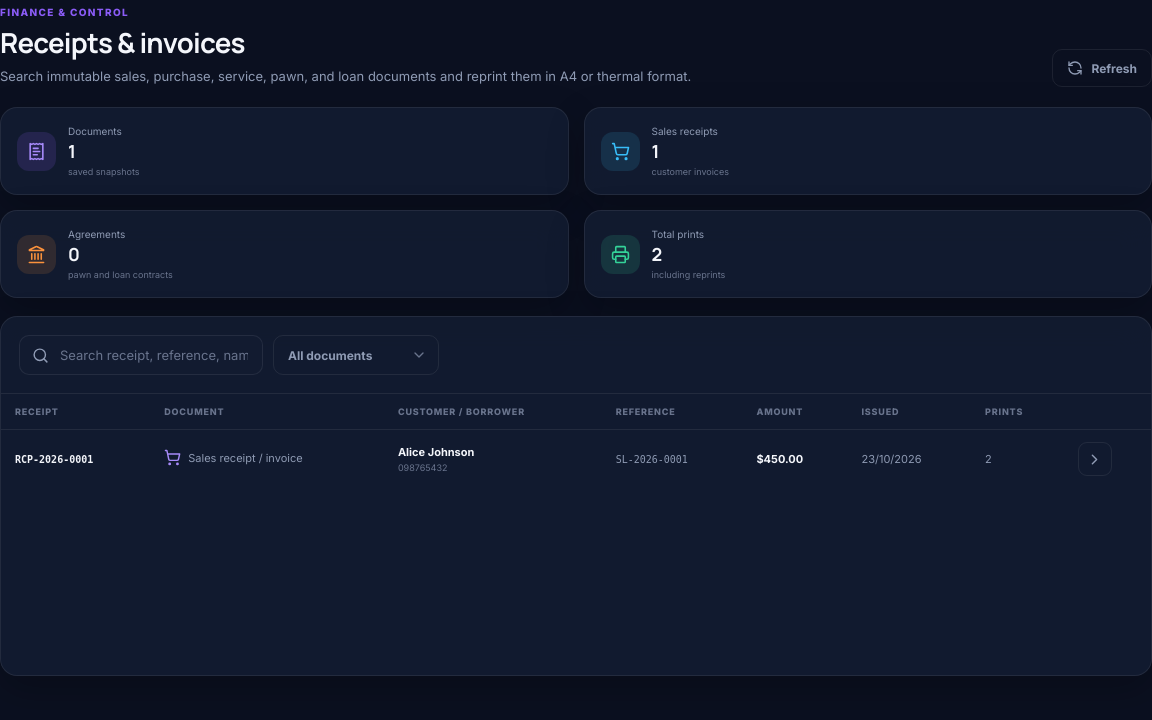
Test: ReceiptCenterPage component › displays error when opening a specific receipt fails
Expected: the text "RCP-2026-0001" is shown, x1=15 y1=454 x2=93 y2=465
Click the button named "Open receipt RCP-2026-0001" at (1095, 459), box x1=1078 y1=442 x2=1112 y2=476
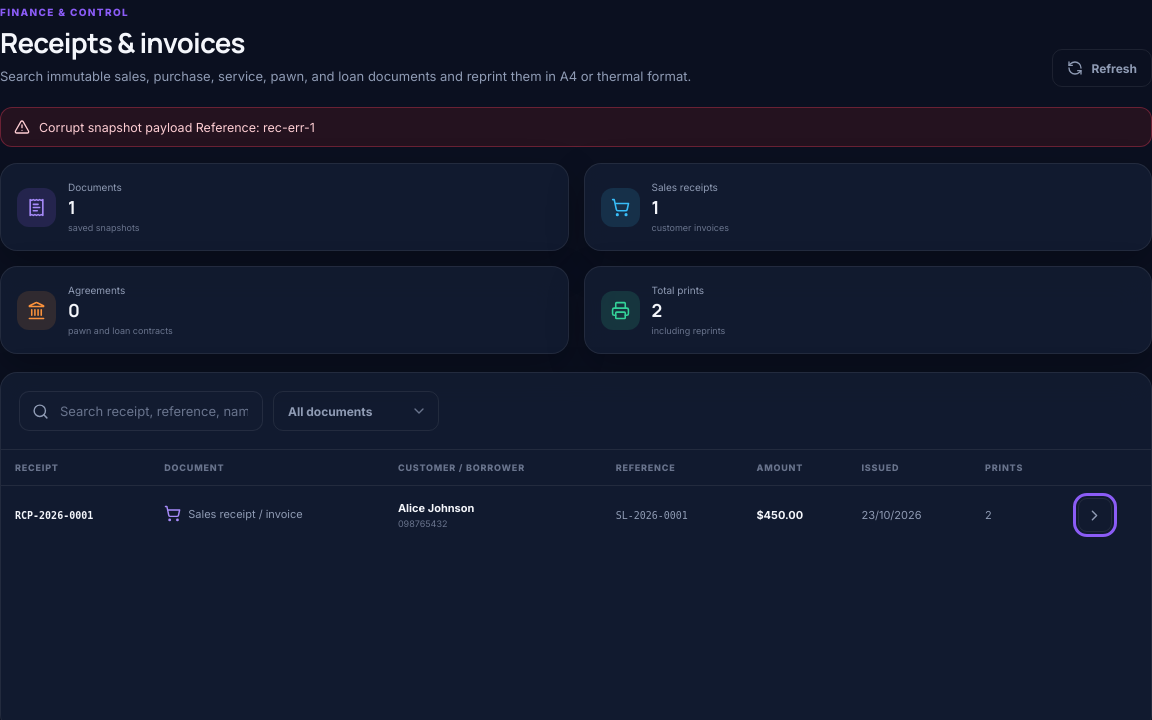
Expected: the message shows "Corrupt snapshot payload", x1=39 y1=120 x2=315 y2=135
